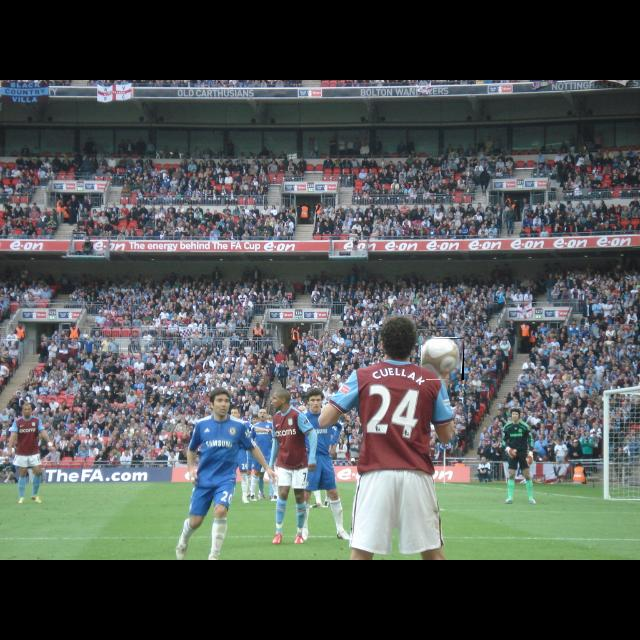Football: (422, 338, 464, 380)
